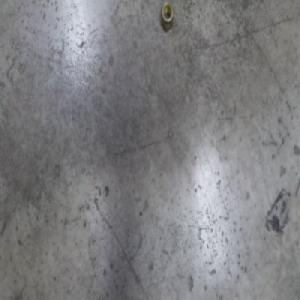Nut: (160, 1, 174, 32)
